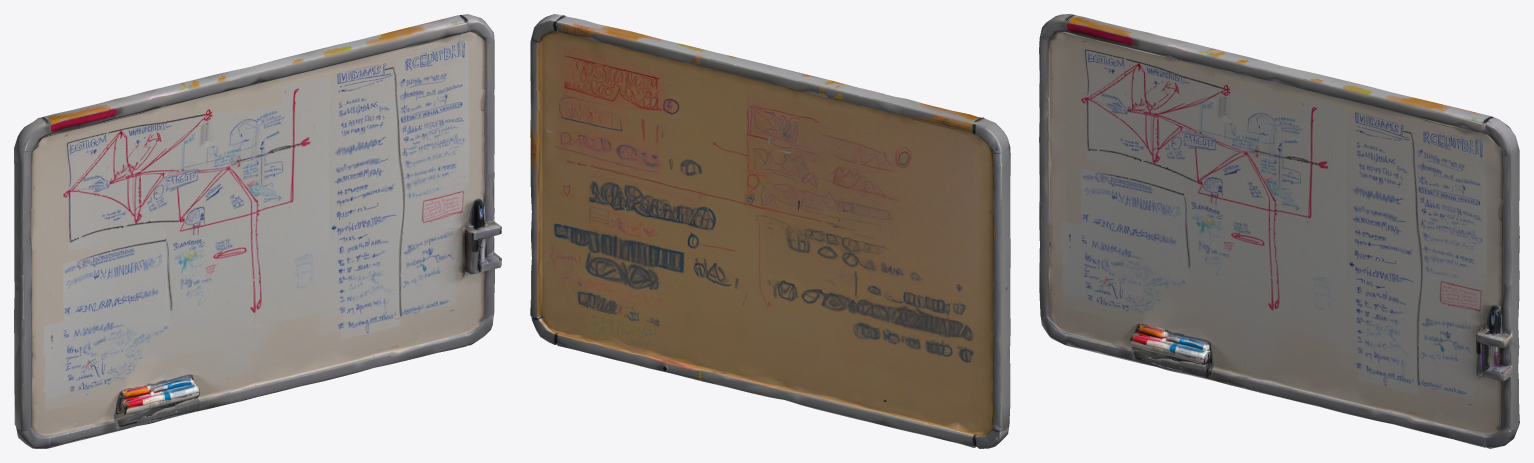
Rendered from magnetic-whiteboard.glb.
3 views of the same model, side by side, from view 1: azimuth 30°, elevation 25°; view 2: azimuth 150°, elevation 25°; view 3: azimuth 330°, elevation 25° (orthographic).
Bounding box in the file's own units: 2 × 1.32 × 0.121.
1 material, 1 textured.
